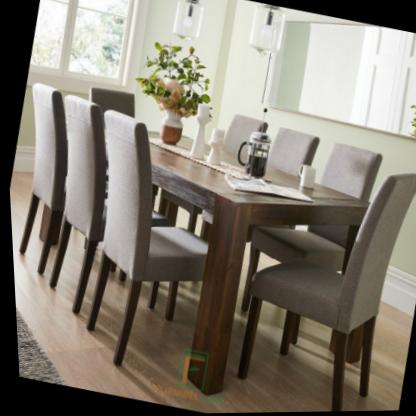Dining Table: (2, 56, 416, 416)
Wooden floor: (8, 171, 153, 404), (333, 303, 409, 412)
